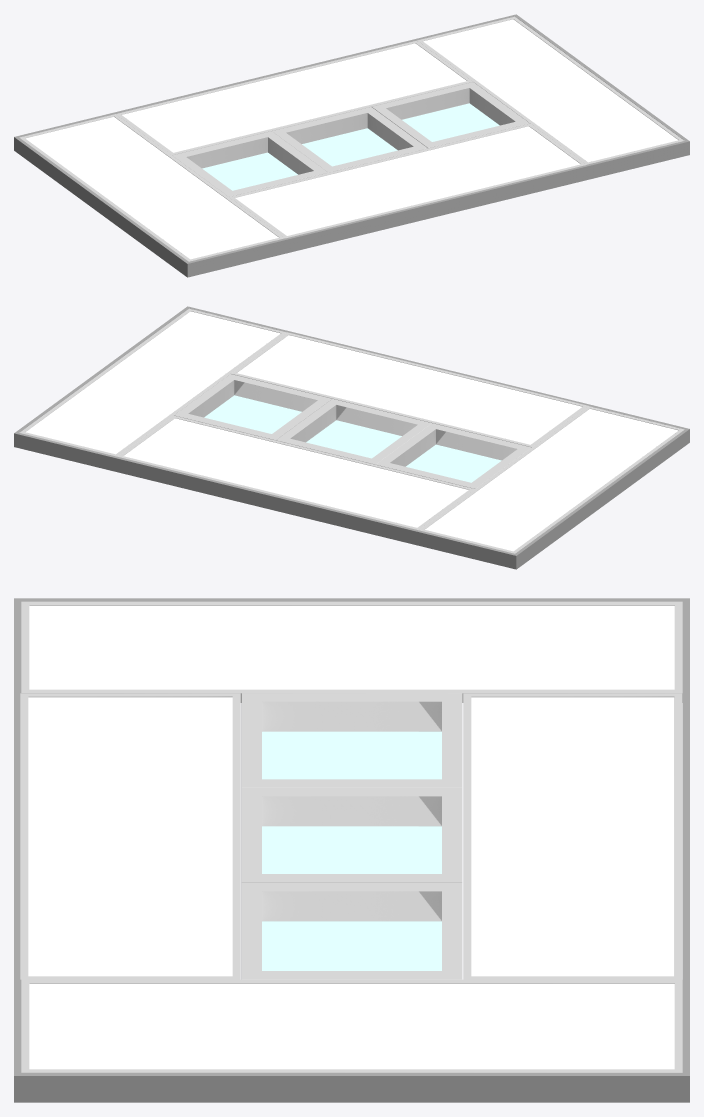
Rendered from nature-connect-AR-baked.glb.
The picture shows the model from 3 angles, top to bottom: view 1: azimuth 30°, elevation 25°; view 2: azimuth 150°, elevation 25°; view 3: azimuth 270°, elevation 25°; orthographic projection. The views are drawn at different scales.
Visible parts, largest first — view 1: Island1.001, Island1.002; view 2: Island1.001, Island1.002; view 3: Island1.001, Island1.002.
Part boxes in pixels (x1,y1,x2,y2): Island1.001: [14, 14, 689, 277]; Island1.002: [186, 88, 515, 174]; Island1.001: [14, 306, 689, 569]; Island1.002: [188, 380, 517, 466]; Island1.001: [14, 598, 689, 1102]; Island1.002: [262, 701, 441, 921].
Size of the model in its own units: 3.08 by 0.14 by 1.84.
